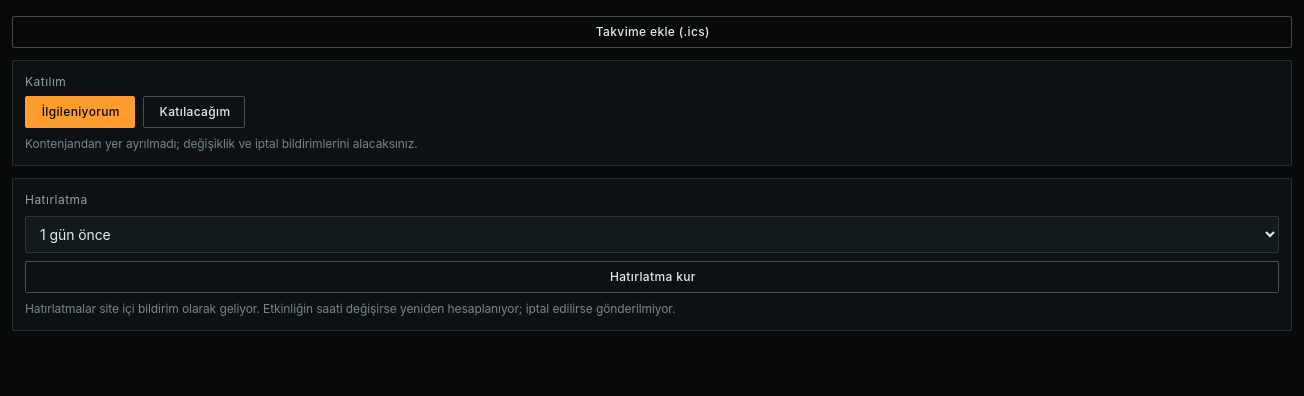
it: hatırlatma bölümü › özel zaman seçilince tarih alanı açılıyor
The image size is (1304, 396).
Select "Kendi seçtiğim zaman" in the dropdown named "Hatırlatma zamanı": (652, 235) [25,216,1279,253]
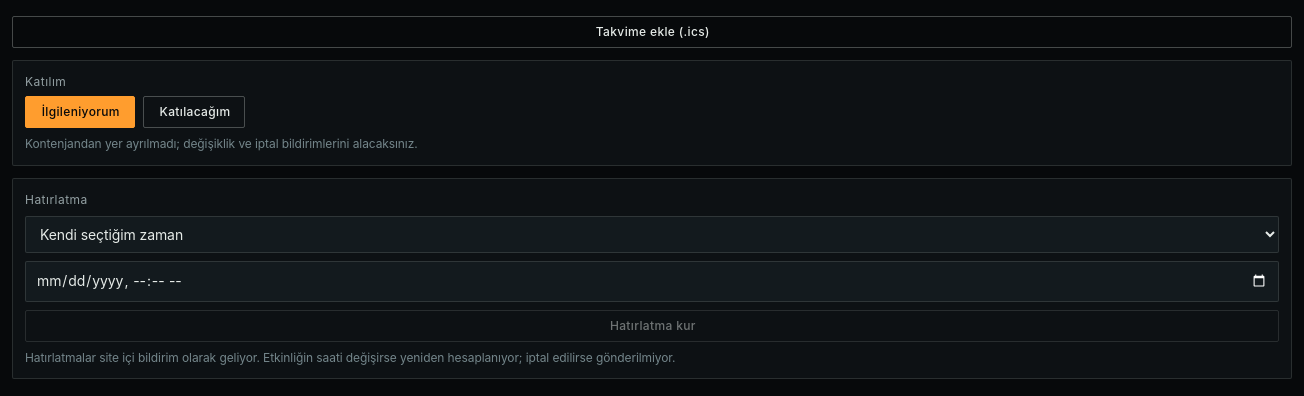
Check: the field named "Hatırlatma tarihi ve saati" is shown, box [25,261,1279,302]
